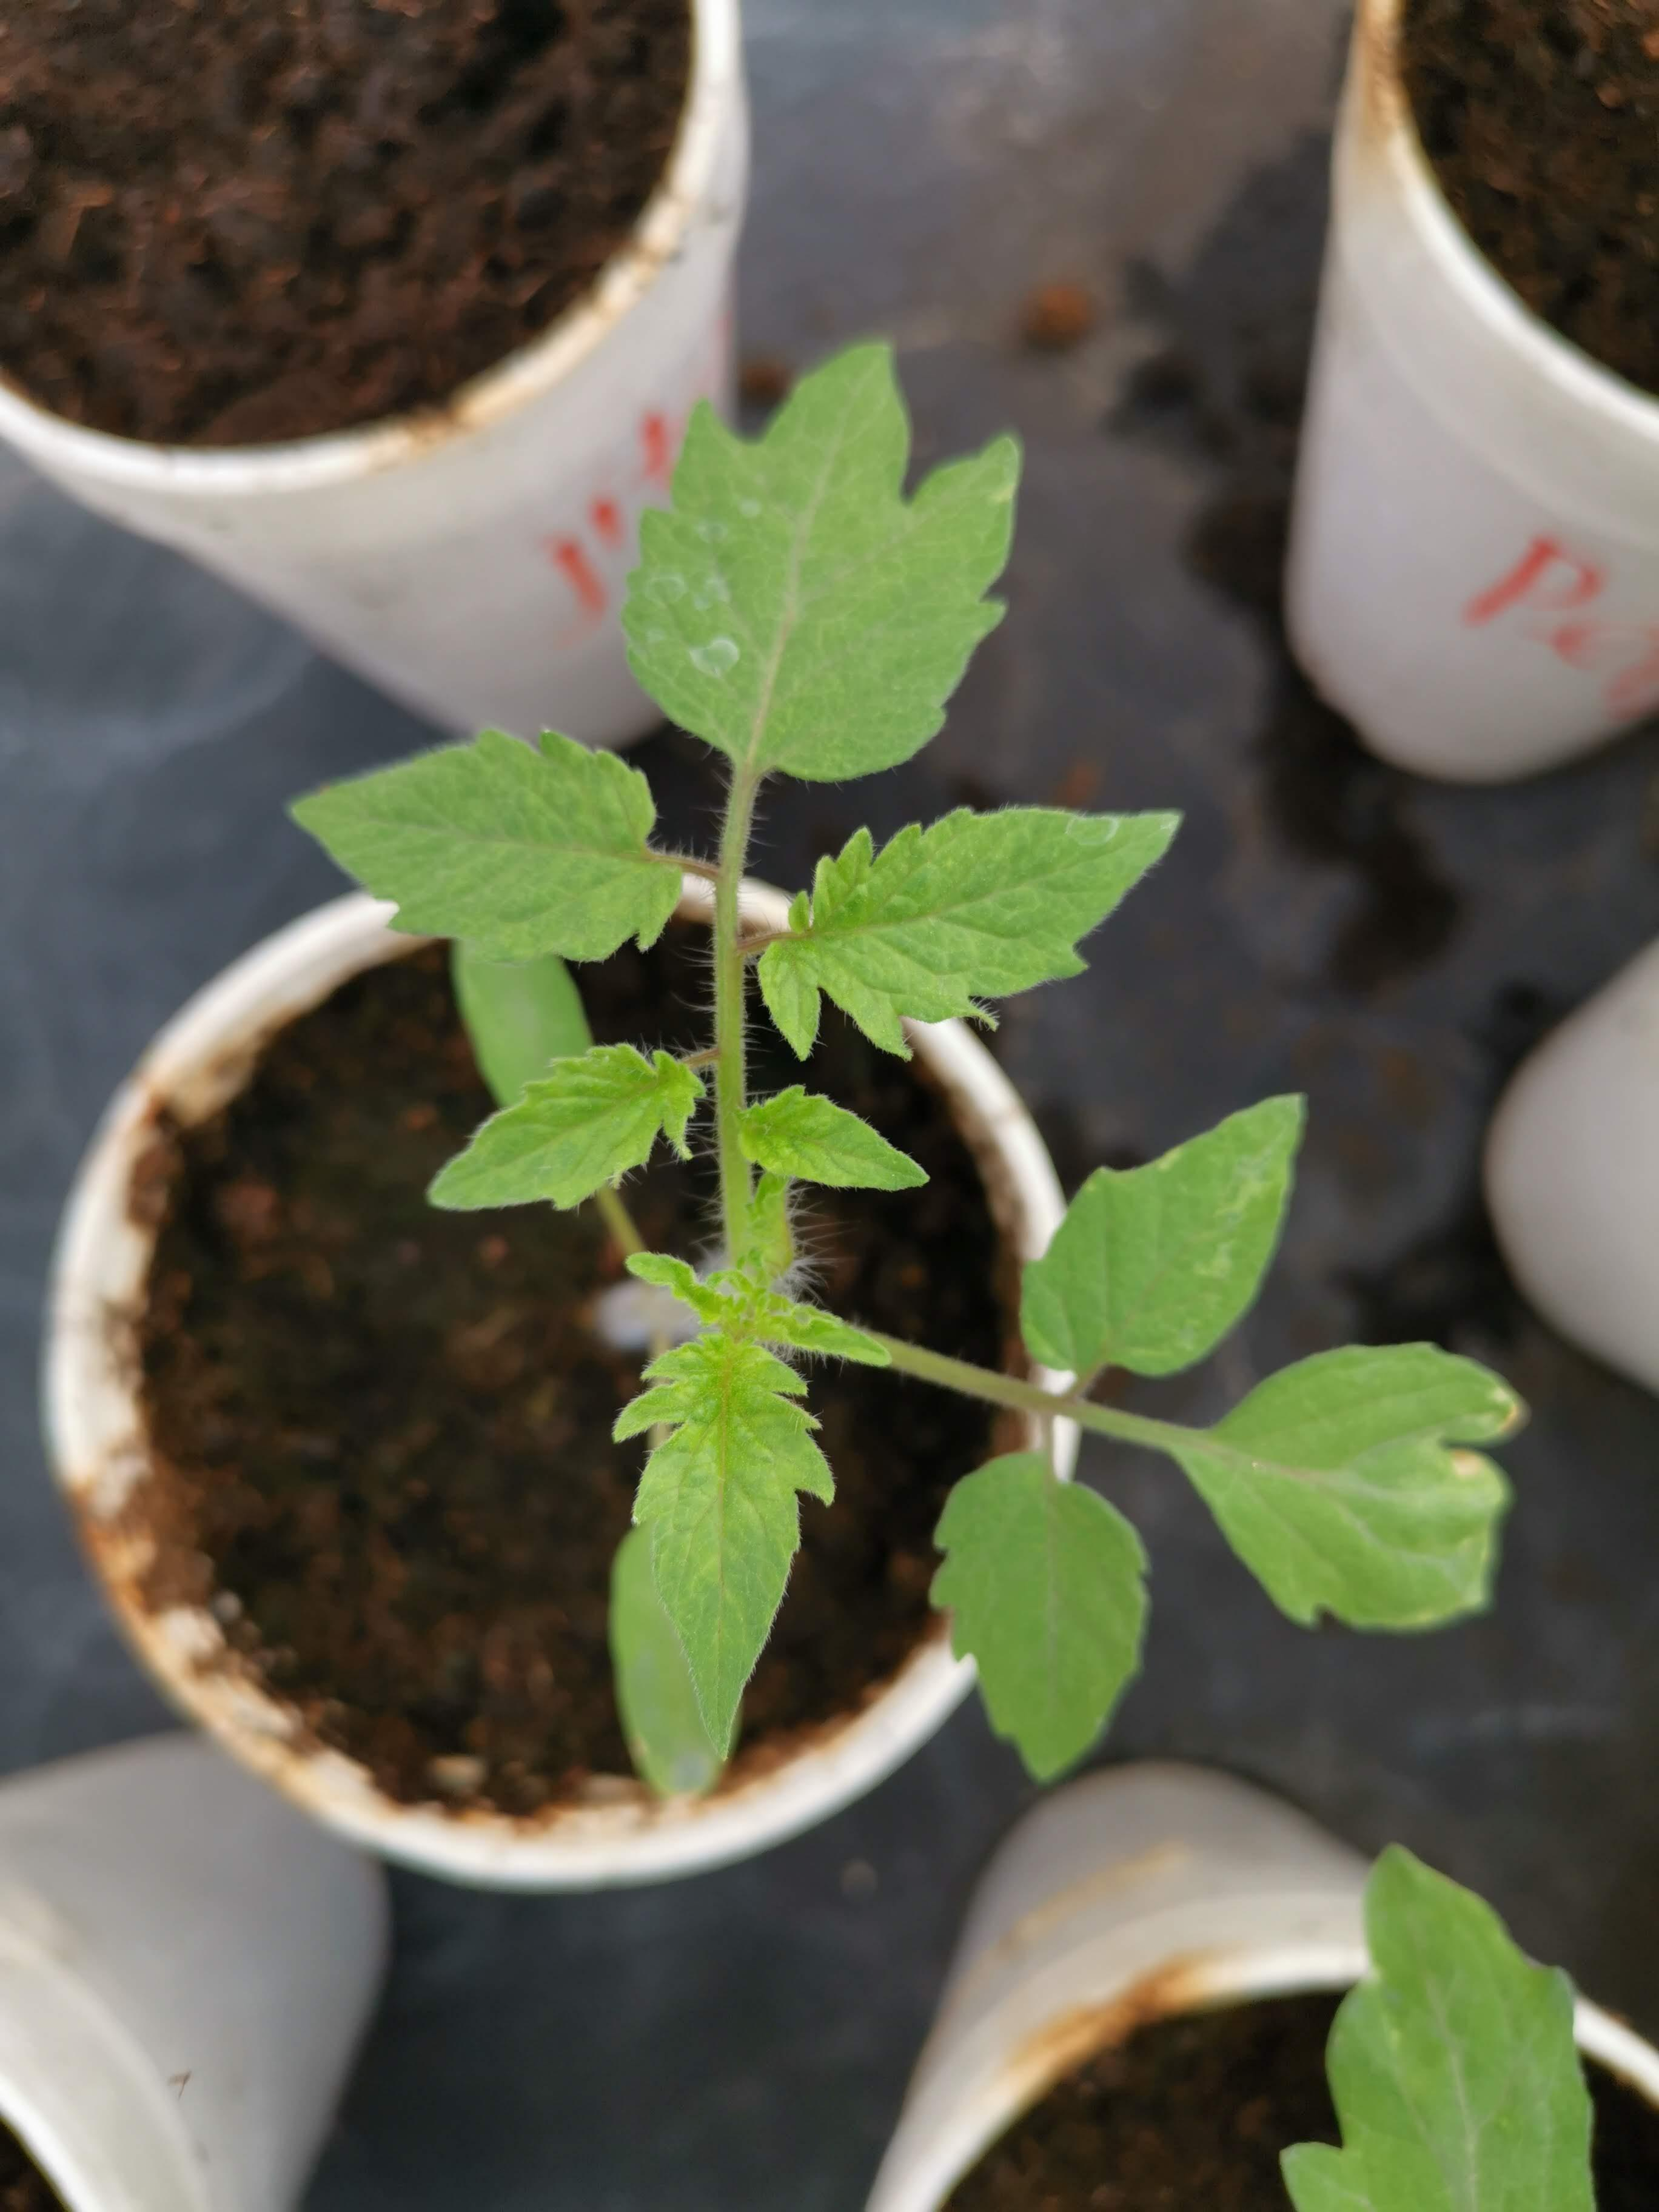Rugose leaf: (610, 1336, 831, 1763), (1025, 1094, 1305, 1378), (425, 1042, 708, 1209), (735, 1083, 931, 1190)
